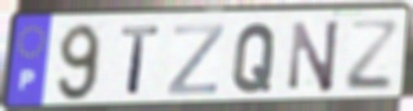9: (54, 21, 106, 104)
N: (286, 17, 343, 95)
Q: (229, 21, 279, 96)
T: (119, 24, 162, 99)
Z: (164, 22, 228, 98), (342, 18, 402, 93)
